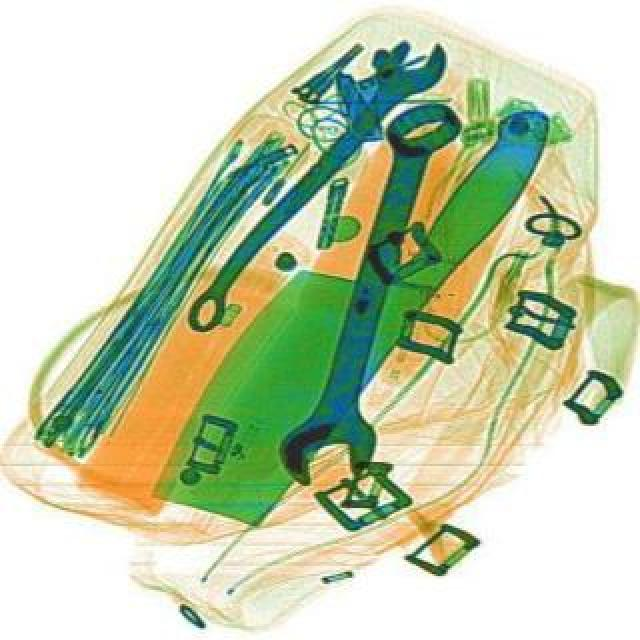knife: (132, 52, 566, 556)
scissors: (166, 22, 454, 344), (268, 88, 462, 498)
